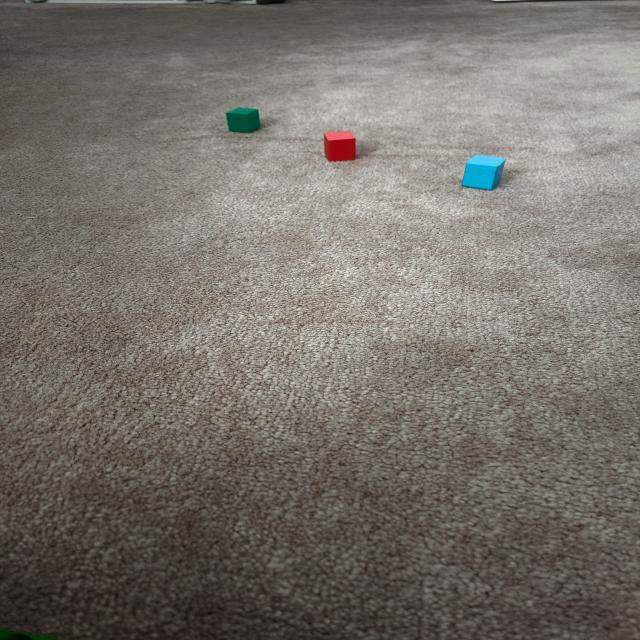bluecube: (463, 152, 505, 192)
green cube: (225, 106, 261, 134)
red cube: (322, 132, 357, 161)
